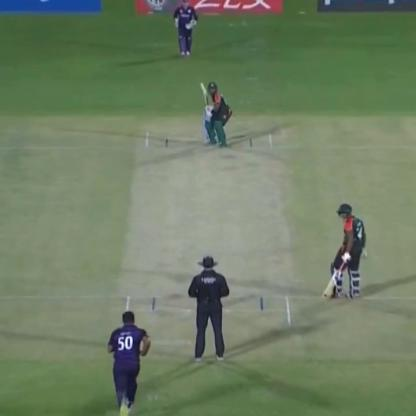pitch: (106, 127, 302, 330)
